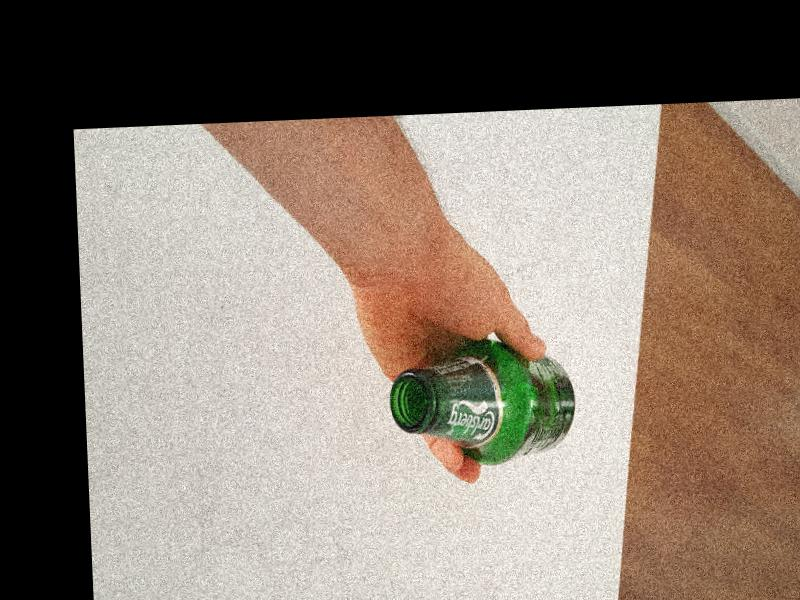Beer: (387, 338, 578, 467)
